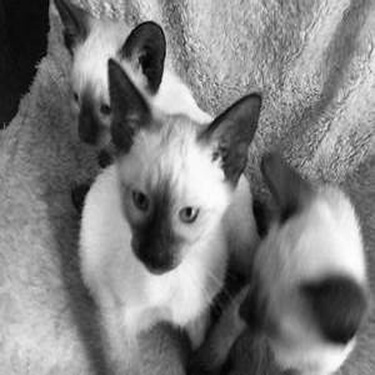cat: (81, 57, 260, 371), (187, 147, 365, 371), (51, 4, 217, 163)
